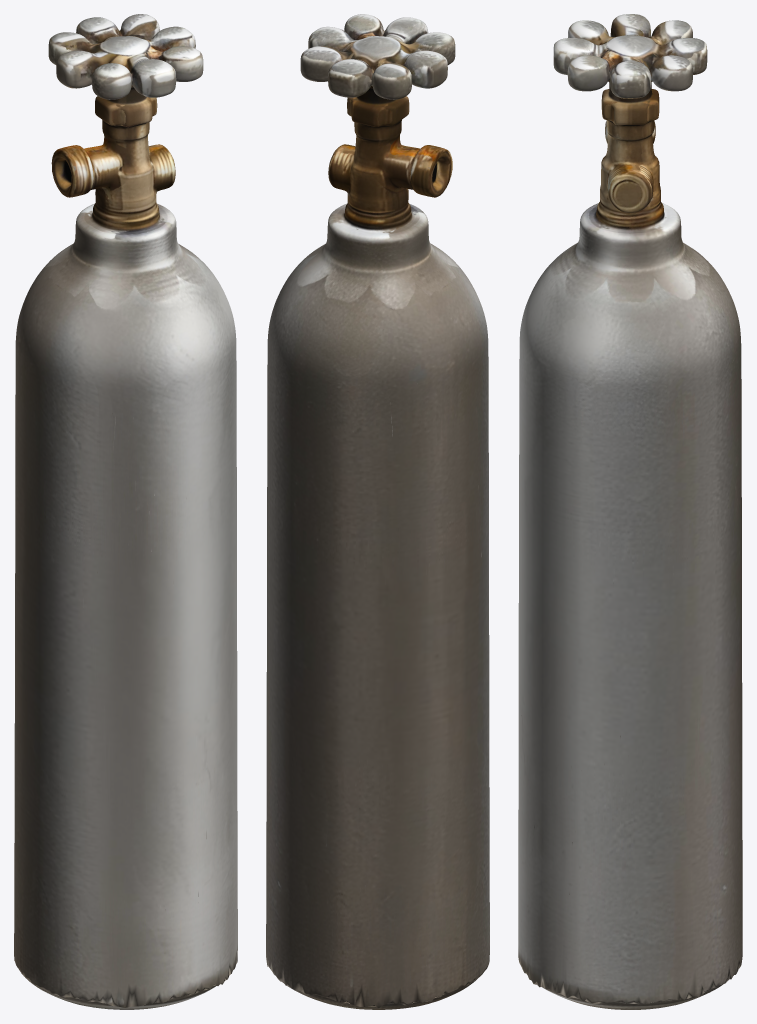
Rendered from oxigen_cylinder.glb.
3 views of the same model, side by side, from view 1: azimuth 30°, elevation 25°; view 2: azimuth 150°, elevation 25°; view 3: azimuth 270°, elevation 25° (orthographic).
Parts seen in each view (by area): view 1: mvadapter_node_texture_mesh_49bcd869ffaf8834.glb_0; view 2: mvadapter_node_texture_mesh_49bcd869ffaf8834.glb_0; view 3: mvadapter_node_texture_mesh_49bcd869ffaf8834.glb_0.
Boxes of the visible parts, box(x1,y1,x2,y2) form: mvadapter_node_texture_mesh_49bcd869ffaf8834.glb_0: box(14, 14, 237, 1009); mvadapter_node_texture_mesh_49bcd869ffaf8834.glb_0: box(266, 14, 489, 1009); mvadapter_node_texture_mesh_49bcd869ffaf8834.glb_0: box(518, 14, 742, 1009).
Size of the model in its own units: 0.4063 by 1.87 by 0.4085.
1 material, 1 textured.
